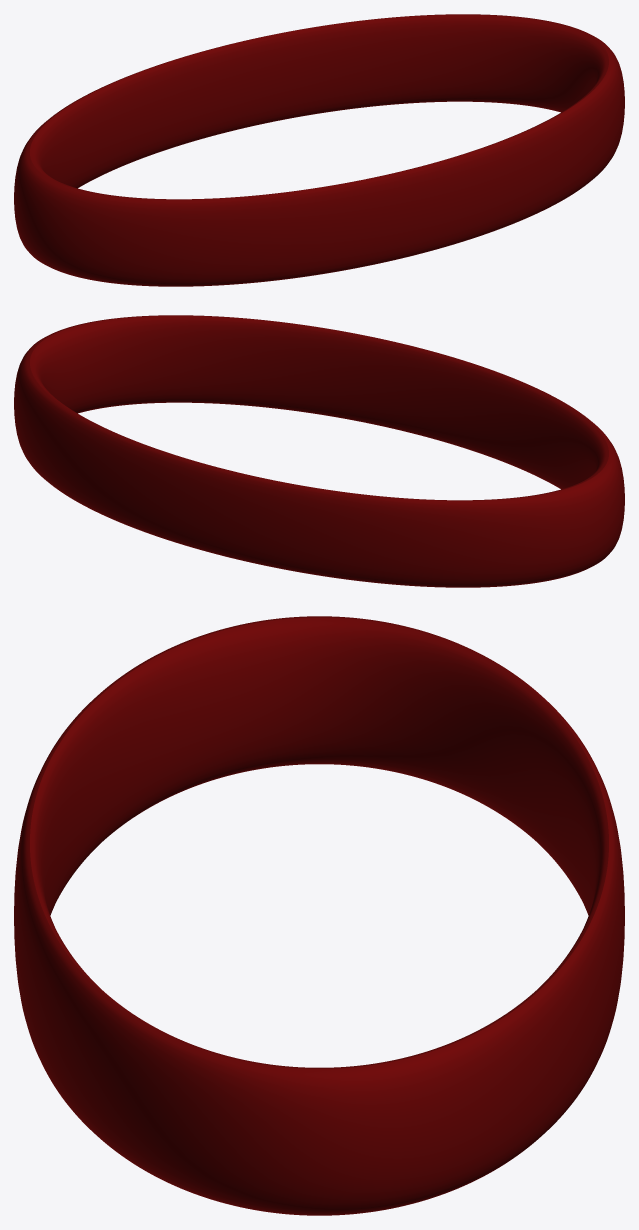
Rendered from wall-hoop-decor.glb.
The picture shows the model from 3 angles, top to bottom: view 1: azimuth 30°, elevation 25°; view 2: azimuth 150°, elevation 25°; view 3: azimuth 270°, elevation 25°; orthographic projection. The views are drawn at different scales.
Visible parts, largest first — view 1: Cylinder; view 2: Cylinder; view 3: Cylinder.
Boxes of the visible parts, x1=… form: Cylinder: x1=14, y1=14, x2=624, y2=286; Cylinder: x1=14, y1=315, x2=624, y2=587; Cylinder: x1=14, y1=616, x2=624, y2=1215.
Bounding box in the file's own units: 0.875 × 0.1245 × 0.4744.
